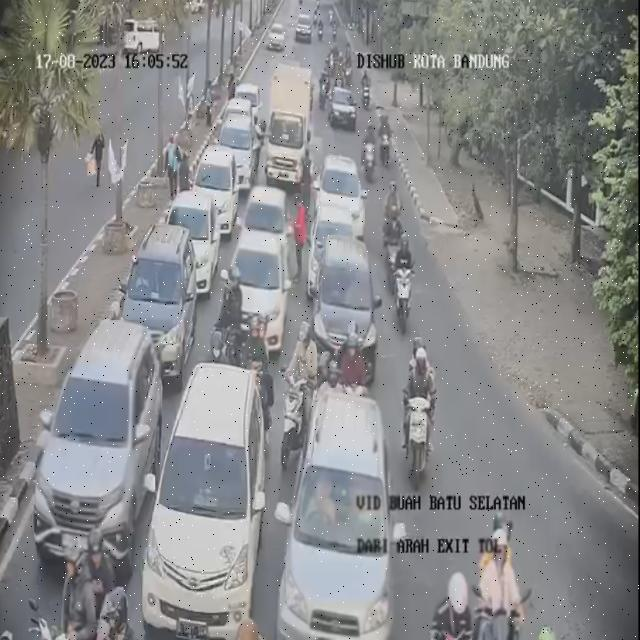cars: (146, 364, 272, 639), (38, 320, 164, 559), (287, 388, 400, 640), (120, 222, 200, 372), (313, 224, 378, 380), (229, 224, 291, 352), (239, 184, 294, 279), (167, 187, 219, 286), (306, 198, 354, 290), (194, 146, 236, 234), (320, 153, 365, 235), (221, 101, 260, 181), (236, 82, 266, 133), (331, 84, 359, 133), (266, 18, 287, 54), (296, 12, 315, 44)
motorcycle: (472, 518, 532, 640), (65, 515, 116, 638), (404, 338, 440, 478), (430, 560, 492, 638), (284, 318, 318, 458), (390, 227, 418, 331), (226, 593, 280, 640), (92, 595, 134, 640), (378, 206, 400, 270), (521, 621, 575, 640), (319, 55, 336, 115), (361, 122, 378, 180), (375, 111, 392, 159), (381, 172, 396, 220), (360, 67, 374, 107), (324, 39, 338, 71)
truck: (262, 63, 312, 194)
